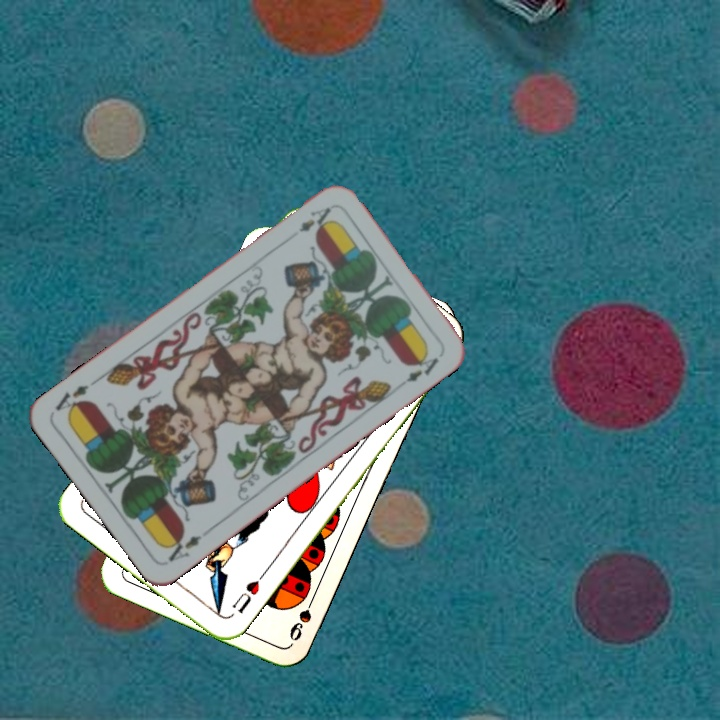EA: (160, 530, 205, 565), (294, 202, 334, 235)
HU: (228, 576, 263, 616)
S9: (285, 589, 319, 644)
